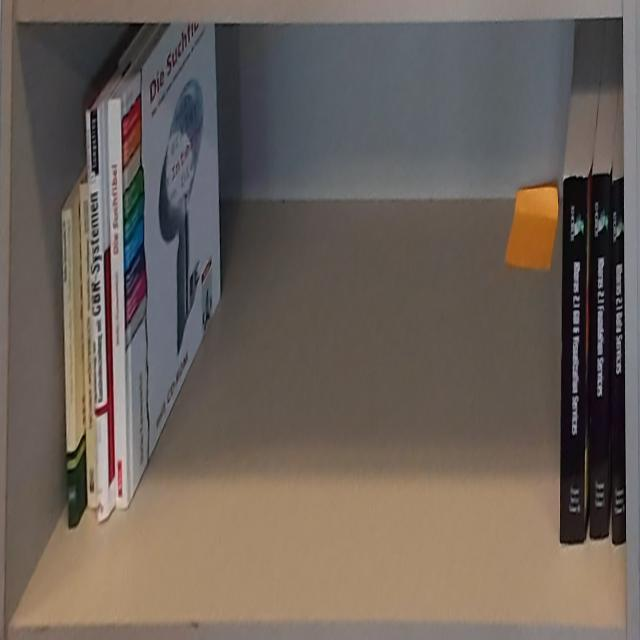Book Spine: (560, 174, 587, 542), (87, 109, 109, 519), (107, 100, 127, 513), (590, 173, 610, 541), (80, 184, 99, 506), (613, 175, 627, 547), (62, 211, 77, 532)
